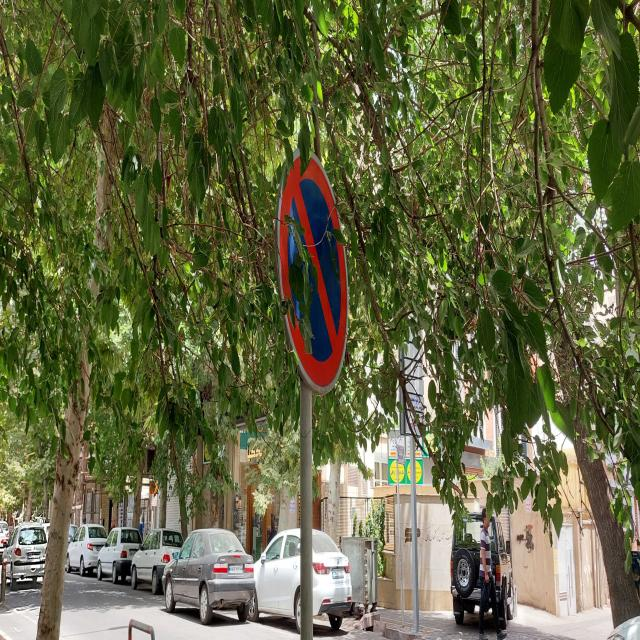forb_stopping: (277, 146, 349, 397)
